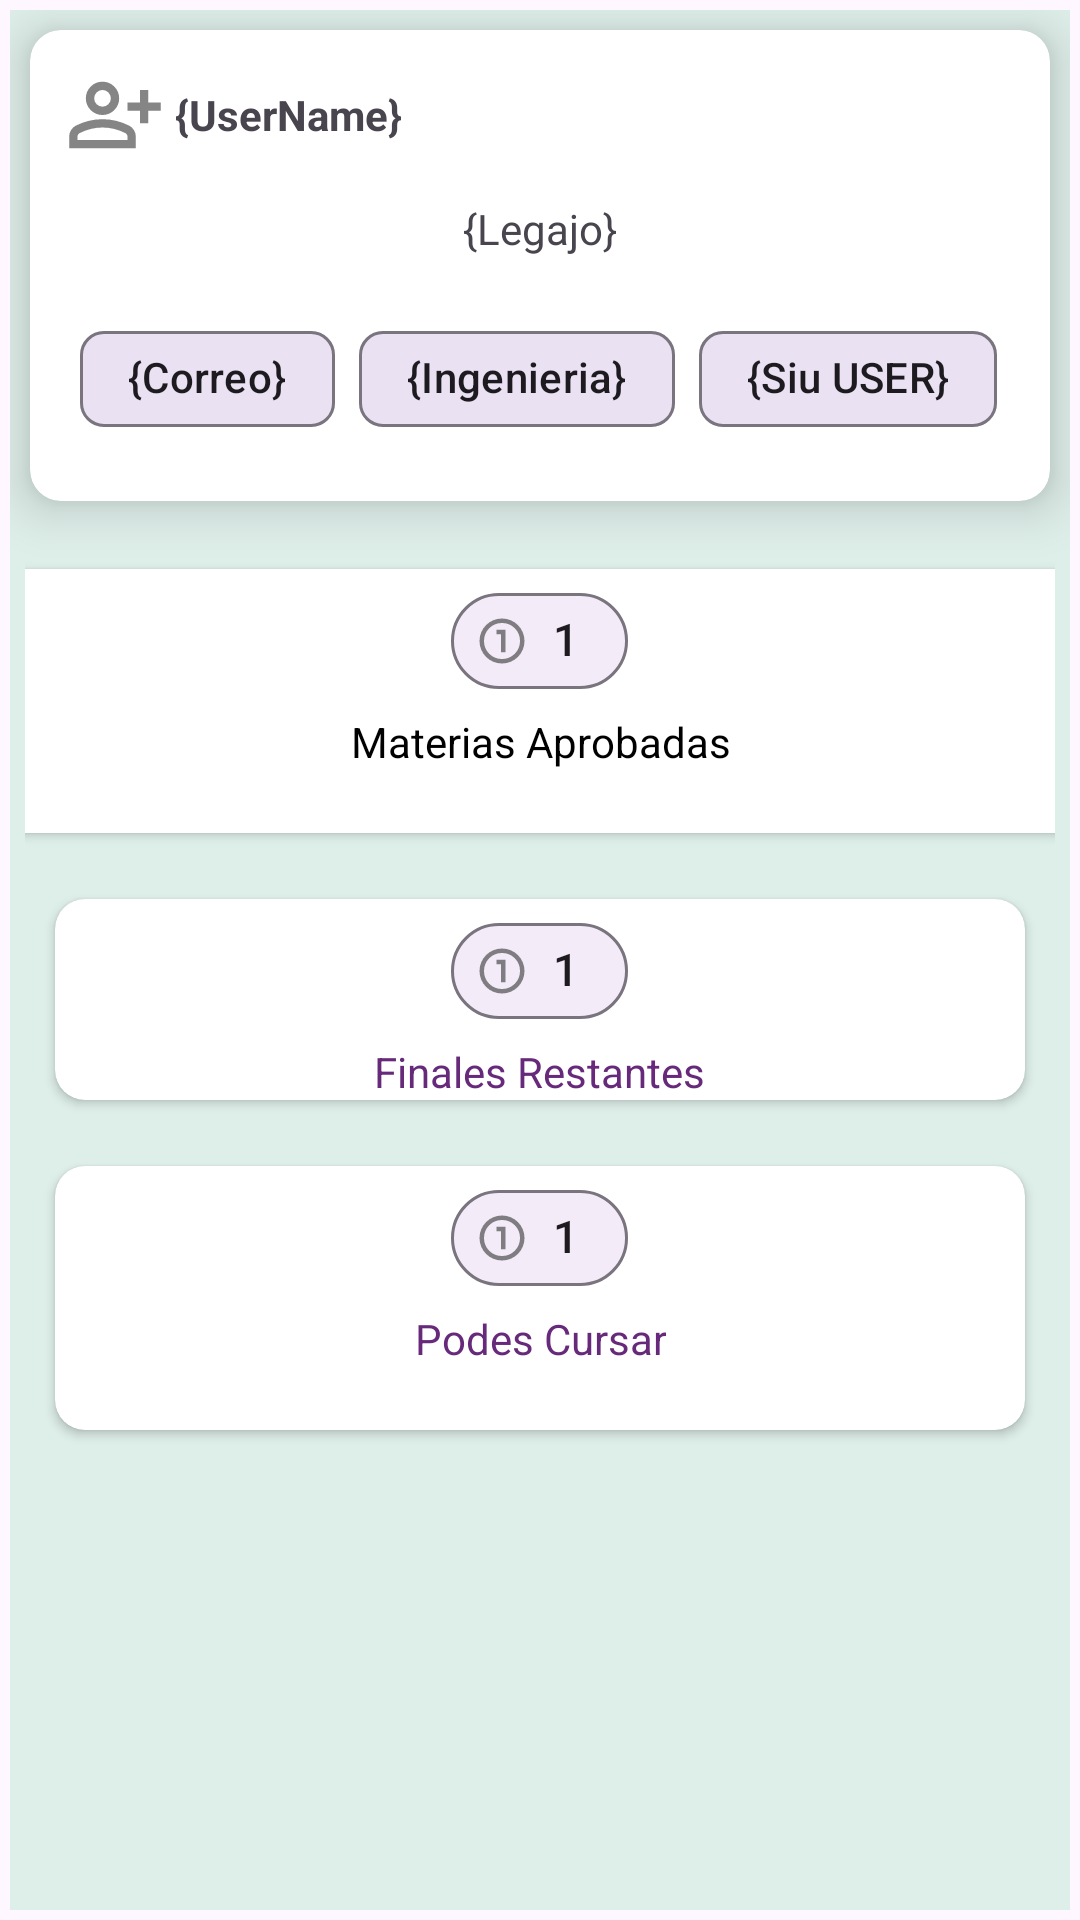

Icon click points for this 1080px×1920px phone screenshot, format (x=x, y=y):
profilepic: (x=115, y=115)
